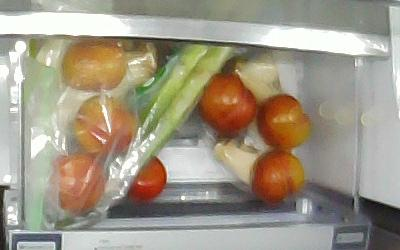prune: (196, 70, 257, 134), (254, 92, 312, 149), (248, 148, 305, 205), (125, 153, 167, 202)
prune_vinyl: (70, 92, 138, 155), (57, 36, 128, 92), (50, 151, 106, 214)
